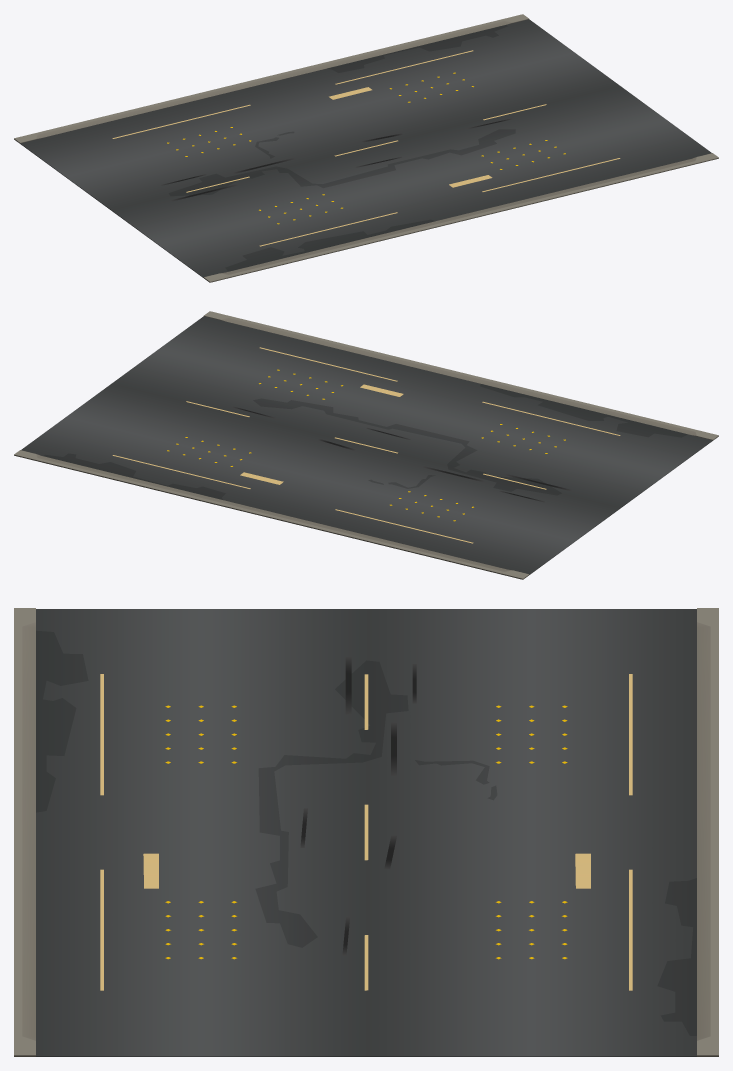
File: tp_runway_04a.glb
3 views of the same model, one above another, from view 1: azimuth 30°, elevation 25°; view 2: azimuth 150°, elevation 25°; view 3: azimuth 270°, elevation 25° (orthographic). The views are drawn at different scales.
Parts seen in each view (by area): view 1: TP_Runway_04A; view 2: TP_Runway_04A; view 3: TP_Runway_04A.
Boxes of the visible parts, x1,y1,x2,y2 form: TP_Runway_04A: (14, 14, 718, 282); TP_Runway_04A: (14, 311, 718, 579); TP_Runway_04A: (14, 608, 718, 1056).
Bounding box in the file's own units: 96 × 0.2 × 64.
Materials: 1 (1 with a texture image).
